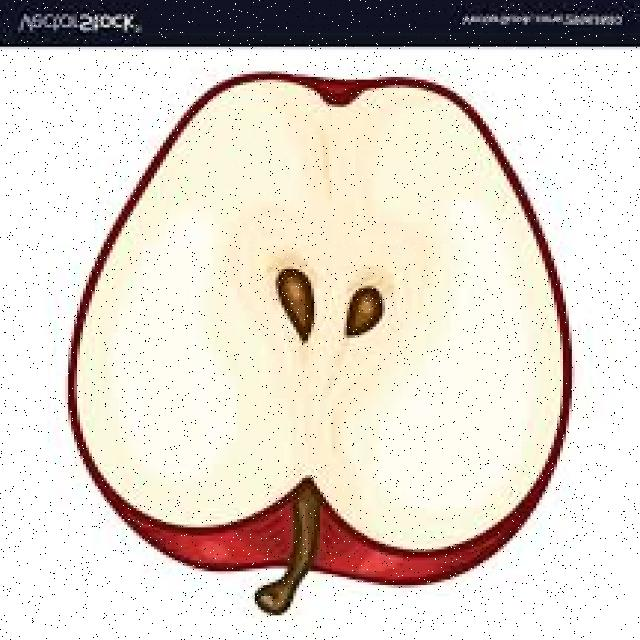Apple: (63, 78, 574, 611)
